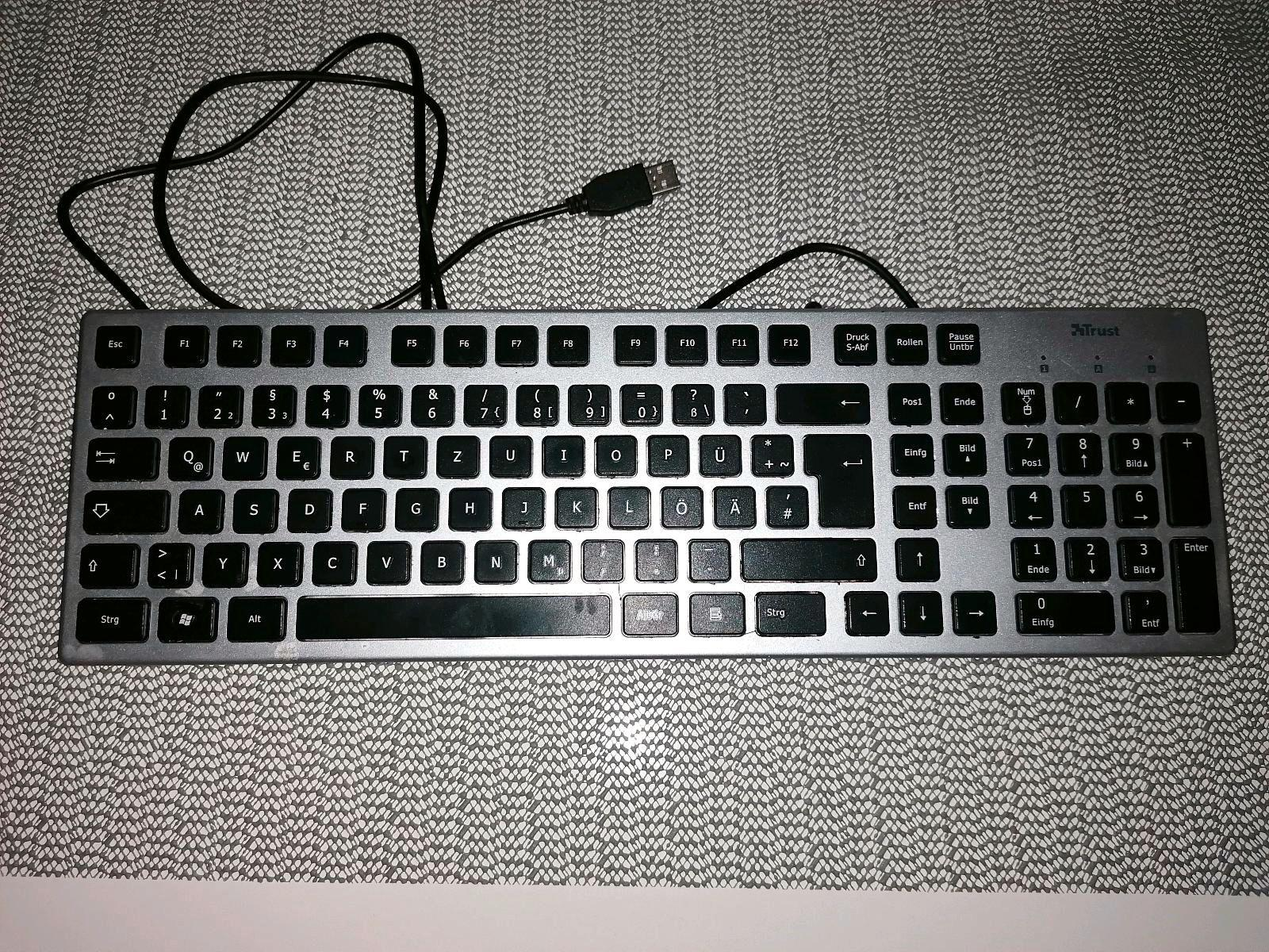0: (617, 380, 661, 423)
1: (141, 381, 188, 426)
2: (195, 380, 240, 425)
3: (248, 380, 294, 425)
4: (303, 380, 347, 424)
5: (355, 380, 401, 424)
6: (408, 380, 454, 424)
7: (462, 381, 506, 425)
8: (513, 381, 558, 424)
9: (565, 381, 610, 424)
a: (175, 485, 221, 531)
accent: (722, 379, 765, 421)
ae: (711, 482, 754, 526)
alt-left: (223, 593, 283, 639)
altgr-right: (619, 590, 677, 634)
b: (417, 537, 463, 582)
c: (309, 537, 355, 583)
caret: (86, 382, 133, 426)
comma: (580, 537, 623, 581)
d: (285, 485, 330, 531)
del: (773, 378, 868, 422)
e: (273, 432, 317, 478)
enter: (799, 430, 872, 526)
f: (339, 484, 384, 529)
g: (393, 484, 436, 528)
h: (447, 484, 490, 528)
hash: (764, 482, 807, 526)
i: (539, 432, 583, 474)
j: (500, 484, 542, 528)
k: (553, 484, 596, 526)
keyboard: (52, 297, 1240, 667)
l: (606, 484, 649, 527)
less: (144, 538, 191, 585)
m: (525, 536, 569, 580)
minus: (686, 538, 730, 581)
n: (471, 537, 516, 581)
o: (592, 432, 635, 474)
oe: (659, 484, 702, 526)
p: (645, 432, 688, 474)
plus: (749, 431, 792, 474)
point: (633, 537, 676, 579)
q: (164, 432, 211, 478)
r: (328, 432, 372, 477)
s: (230, 485, 275, 531)
shift-left: (74, 539, 136, 586)
shift-lock: (79, 485, 166, 532)
shift-right: (737, 534, 876, 579)
space: (291, 591, 610, 636)
ss: (669, 380, 713, 423)
strg-left: (70, 593, 148, 641)
strg-right: (751, 589, 826, 634)
t: (381, 432, 425, 475)
tab: (84, 432, 156, 478)
u: (487, 432, 531, 476)
ue: (696, 432, 739, 474)
v: (363, 537, 409, 582)
w: (219, 432, 265, 478)
x: (255, 538, 301, 584)
y: (199, 539, 247, 585)
z: (435, 432, 478, 475)
